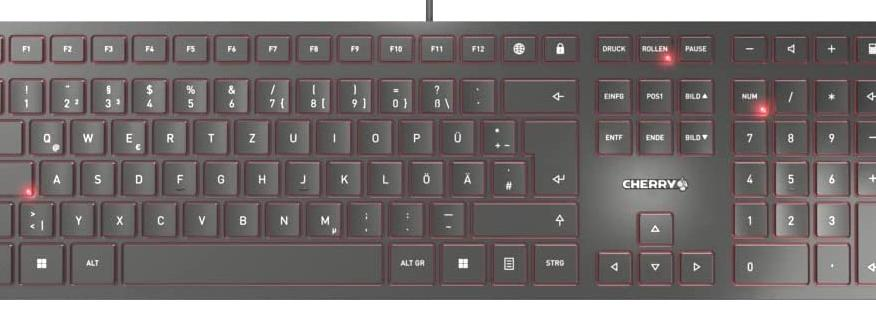0: (378, 76, 414, 112)
1: (8, 75, 43, 112)
2: (49, 76, 85, 112)
3: (90, 75, 126, 112)
4: (132, 75, 166, 111)
5: (172, 75, 208, 112)
6: (213, 75, 249, 112)
7: (254, 75, 290, 112)
8: (295, 76, 331, 112)
9: (336, 76, 372, 112)
a: (39, 157, 73, 194)
accent: (460, 76, 495, 112)
ae: (450, 157, 485, 194)
alt-left: (71, 243, 118, 287)
altgr-right: (388, 243, 436, 287)
b: (223, 197, 260, 234)
c: (141, 198, 177, 235)
caret: (1, 76, 18, 111)
comma: (348, 198, 382, 235)
d: (121, 157, 155, 194)
del: (502, 77, 577, 112)
e: (111, 115, 146, 153)
enter: (520, 115, 578, 195)
f: (162, 157, 196, 194)
g: (202, 157, 238, 194)
h: (243, 157, 279, 194)
hash: (490, 158, 526, 194)
i: (316, 115, 351, 152)
j: (285, 156, 320, 194)
k: (325, 157, 362, 194)
keyboard: (1, 20, 876, 299)
l: (367, 157, 402, 193)
less: (17, 198, 52, 234)
m: (305, 198, 341, 235)
minus: (429, 199, 465, 235)
n: (264, 198, 301, 235)
o: (356, 116, 392, 153)
oe: (409, 158, 444, 194)
p: (398, 116, 433, 152)
plus: (481, 116, 514, 153)
point: (389, 198, 424, 235)
q: (27, 116, 63, 153)
r: (152, 116, 187, 152)
s: (79, 157, 114, 194)
shift-left: (1, 199, 23, 236)
shift-lock: (1, 157, 34, 195)
shift-right: (471, 199, 577, 234)
space: (121, 242, 382, 287)
ss: (419, 76, 454, 112)
strg-left: (1, 240, 25, 284)
strg-right: (532, 245, 581, 286)
t: (193, 115, 228, 152)
tab: (1, 116, 29, 153)
u: (275, 116, 310, 153)
ue: (439, 116, 474, 153)
v: (182, 197, 218, 234)
w: (69, 115, 104, 153)
x: (100, 198, 136, 235)
y: (59, 198, 94, 235)
z: (234, 116, 269, 152)
